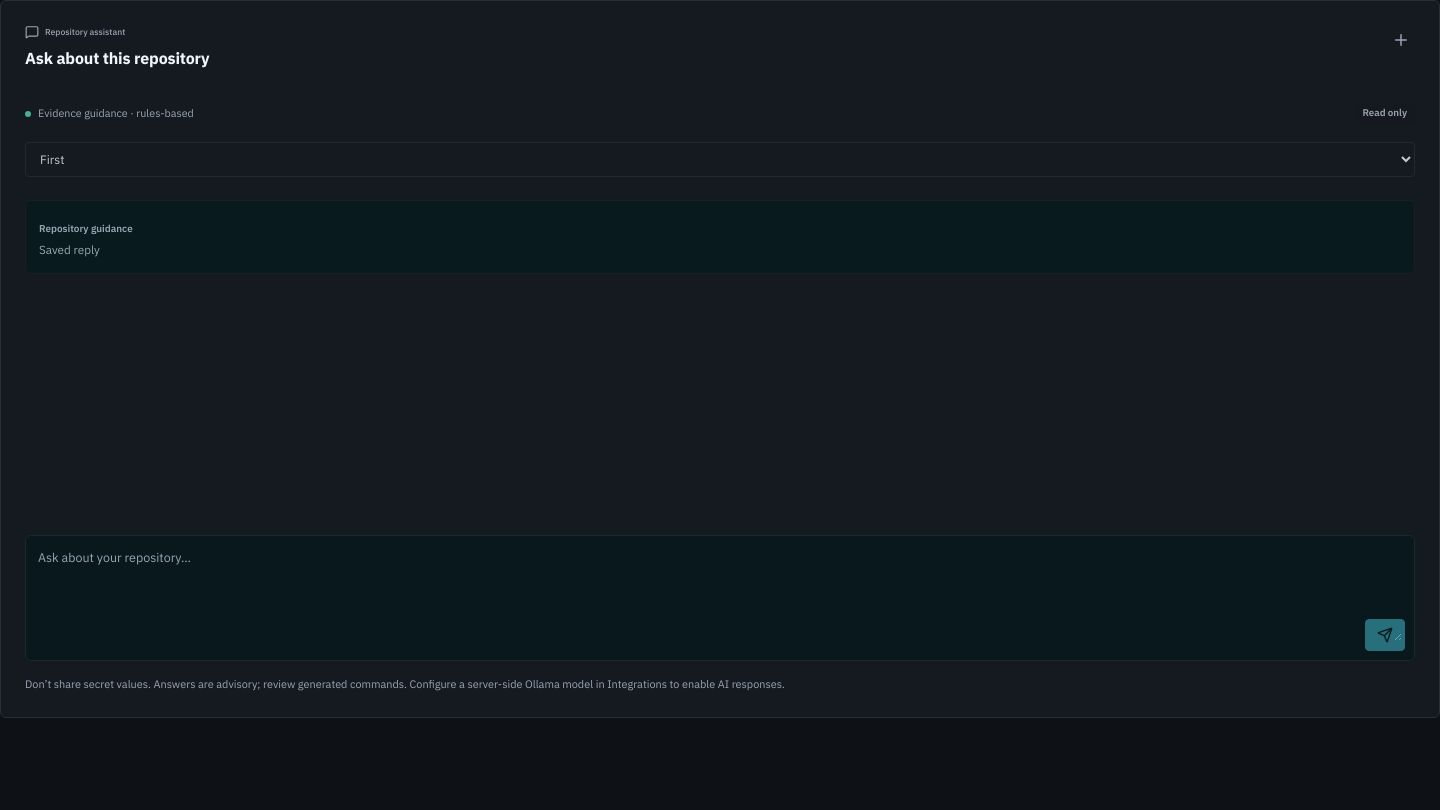
it: hides previous messages while switching and ignores a late history response
expect the text "Saved reply" is shown: met, box [39,242,100,257]
Select "Second" in the dropdown: (720, 160) [25,142,1415,177]
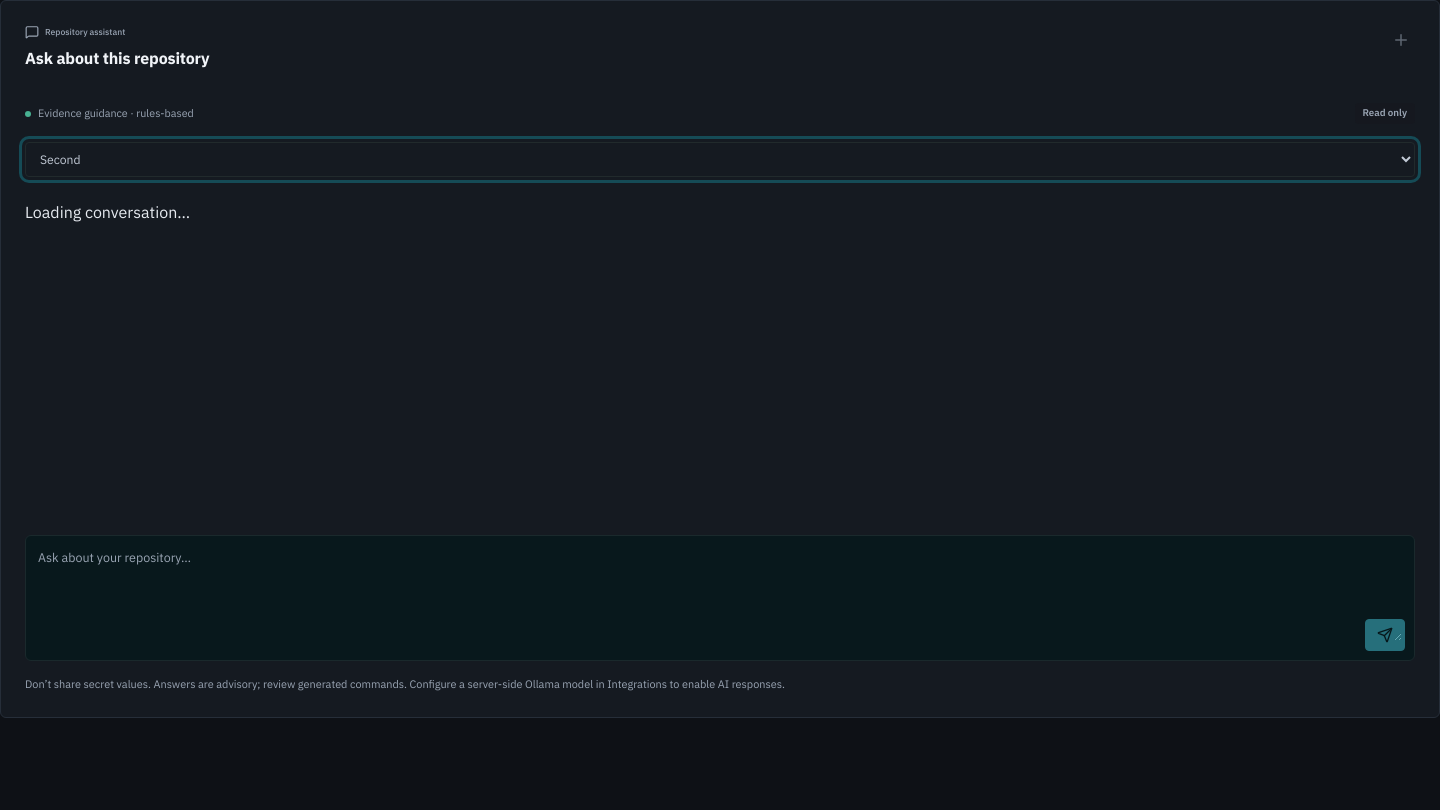
expect the text "Saved reply" is gone: met
expect the message shows "Loading conversation": met, box [25,202,190,222]
Select "New conversation" in the dropdown: (720, 160) [25,142,1415,177]
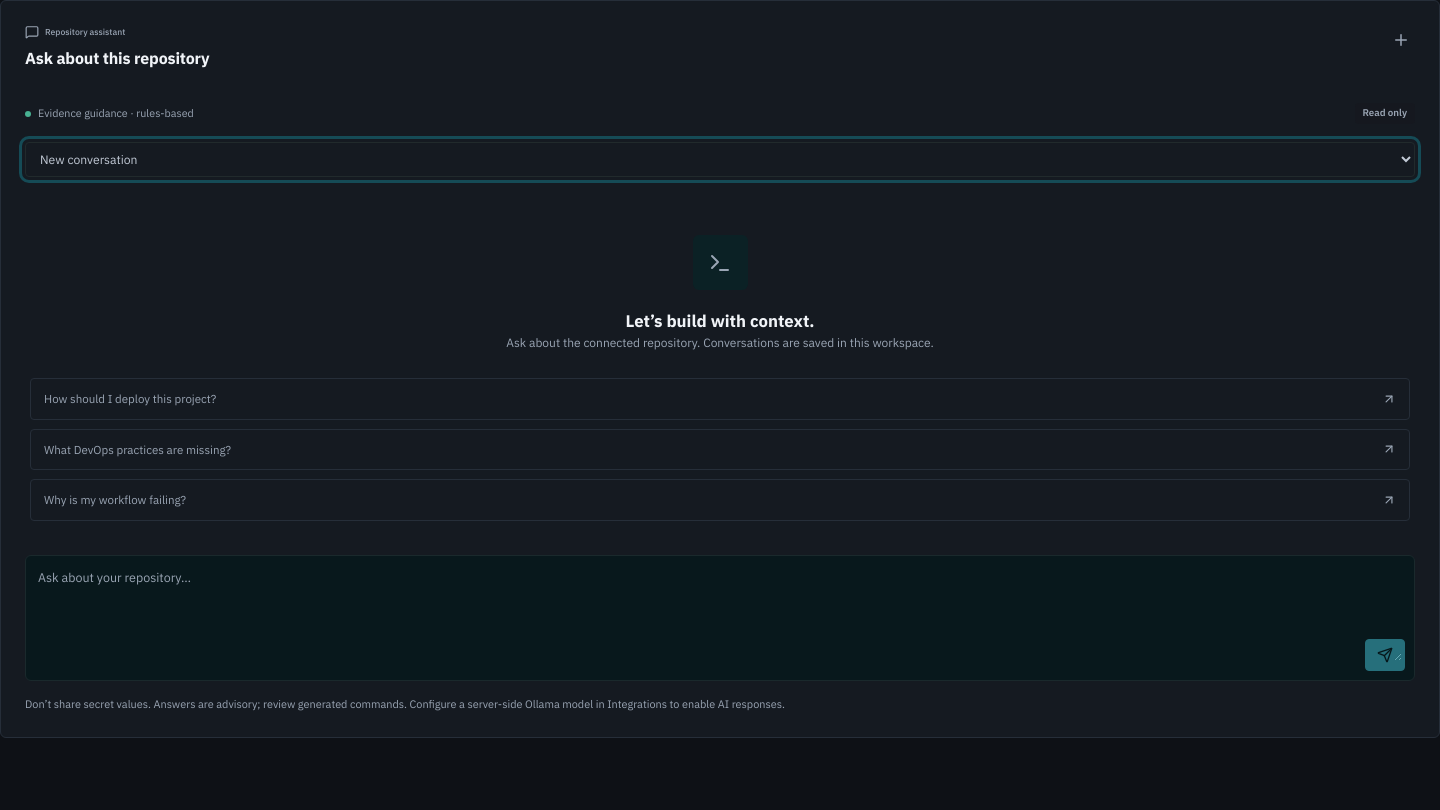
expect the text "Saved reply" is not shown: met
expect the heading "Let’s build with context." is shown: met, box [625,310,814,332]
